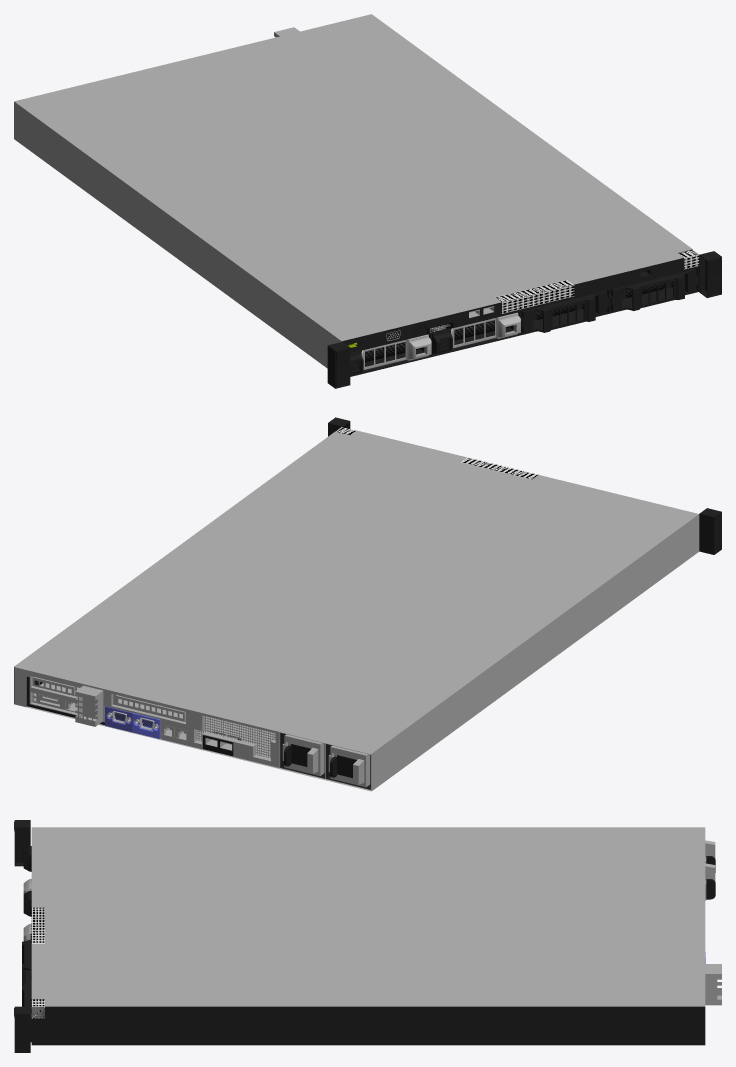
The model's file is Dell_R320.fbx.
The picture shows the model from 3 angles, top to bottom: view 1: azimuth 30°, elevation 25°; view 2: azimuth 150°, elevation 25°; view 3: azimuth 270°, elevation 25°; orthographic projection. The views are drawn at different scales.
Parts seen in each view (by area): view 1: Dell_R320; view 2: Dell_R320; view 3: Dell_R320.
Boxes of the visible parts, x1,y1,x2,y2 form: Dell_R320: (14,14,721,388); Dell_R320: (14,417,721,791); Dell_R320: (14,820,721,1052).
Bounding box in the file's own units: 466 × 43.78 × 720.
9 materials, 3 textured.
